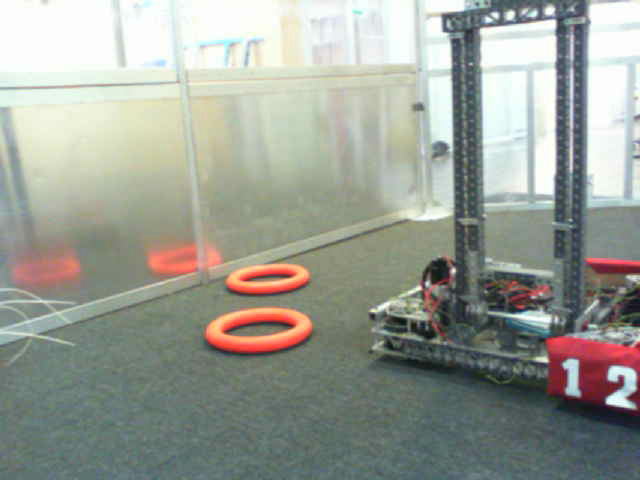Note: (209, 311, 318, 355), (231, 264, 317, 301)
Robot: (375, 15, 639, 420)
